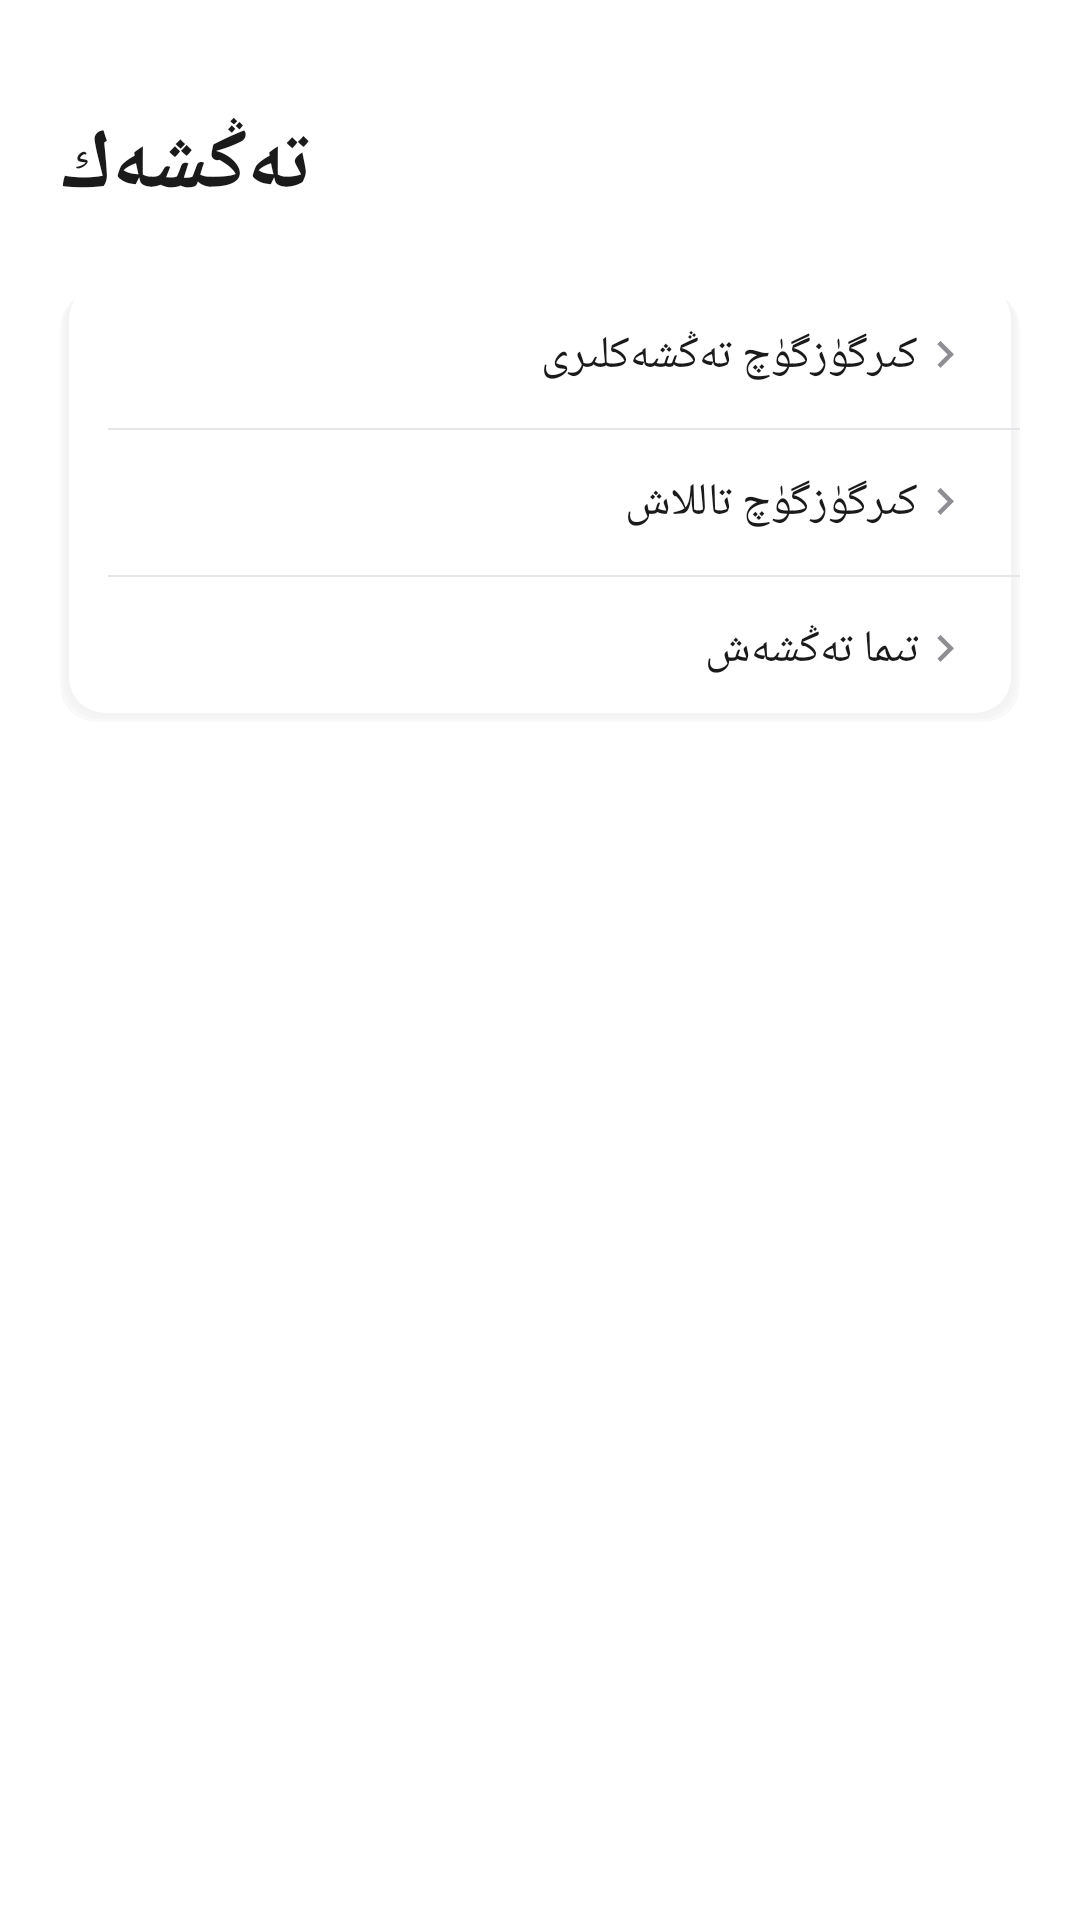

Icon bounding boxes for this 1080px x 1920px phone screenshot, format bbox=(x1, y1, x2, y2):
chevron right: bbox=(937, 341, 954, 368), bbox=(937, 488, 954, 515), bbox=(937, 635, 954, 662)
